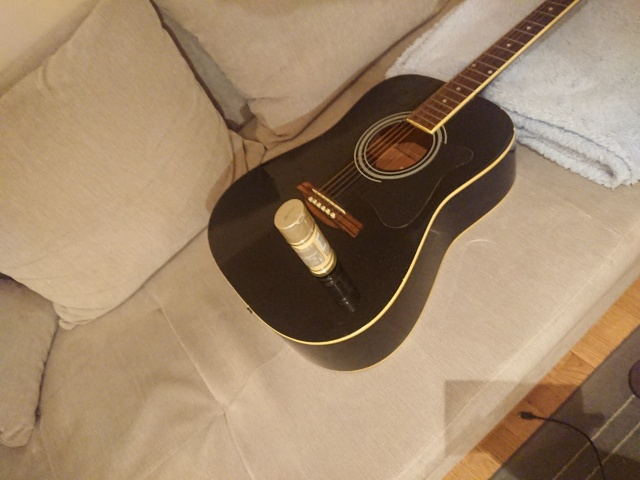Kotanyi Garlic Granules 70g: (271, 197, 340, 280)
